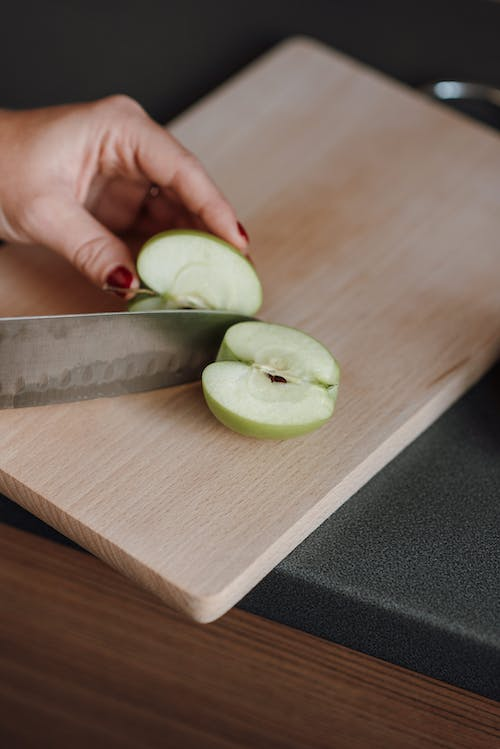knife: (0, 311, 278, 413)
